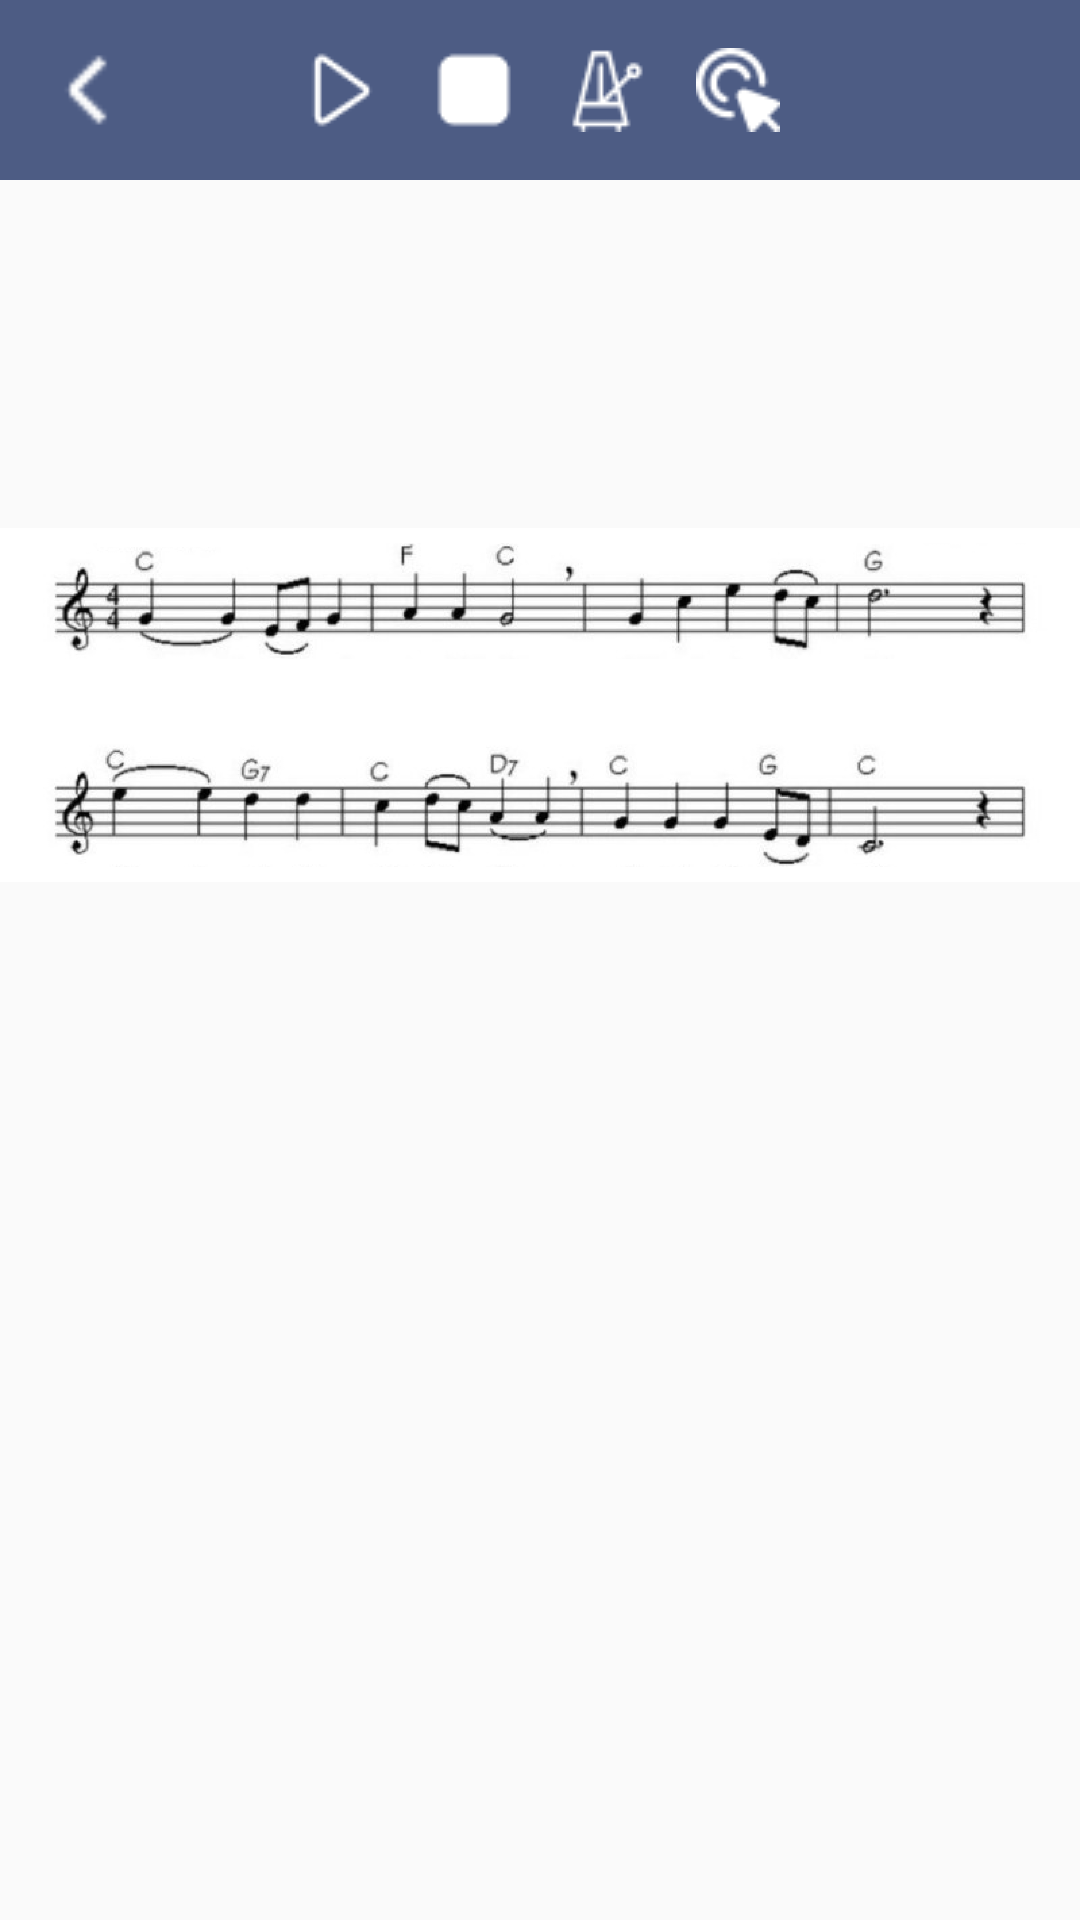

Icons on this 1080×1920 Android screen, each with its box as (left=x1, top=y1, right=x2, bottom=y2):
뒤로 가기: (left=68, top=55, right=107, bottom=125)
메트로놈: (left=572, top=50, right=643, bottom=132)
시작: (left=314, top=53, right=370, bottom=127)
정지: (left=437, top=53, right=511, bottom=127)
